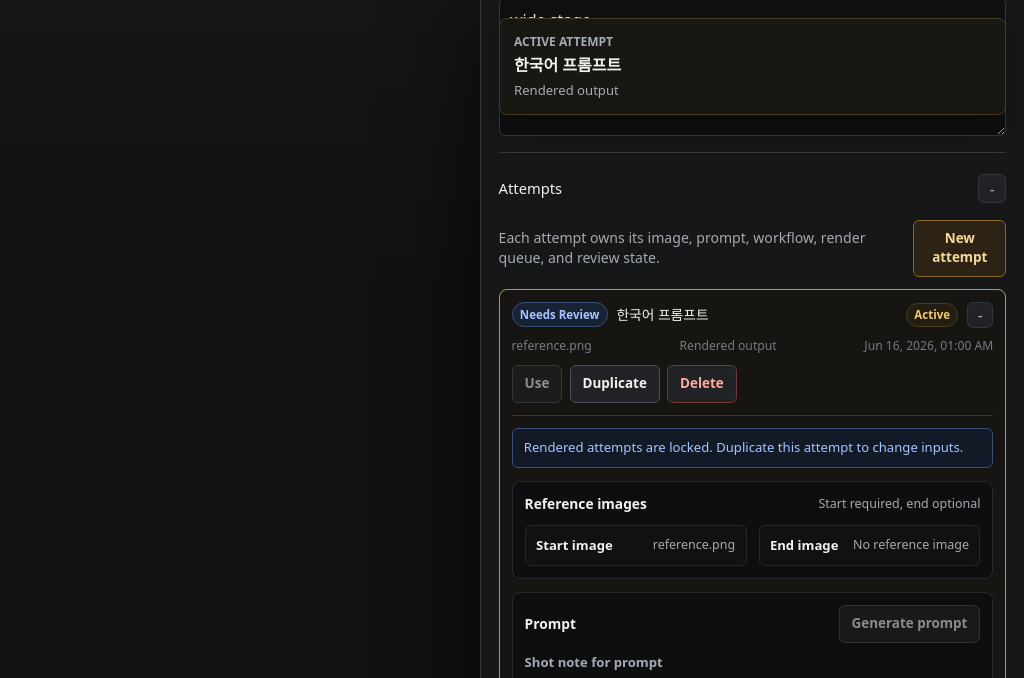
Test: ShotDrawer asset attempts › rendered attempt inputs are locked and duplicate creates an editable attempt
(page scrolled)
Click the button with aria-label "Duplicate attempt attempt-rendered".
click(615, 384)  # box [570, 365, 660, 403]
(page scrolled)
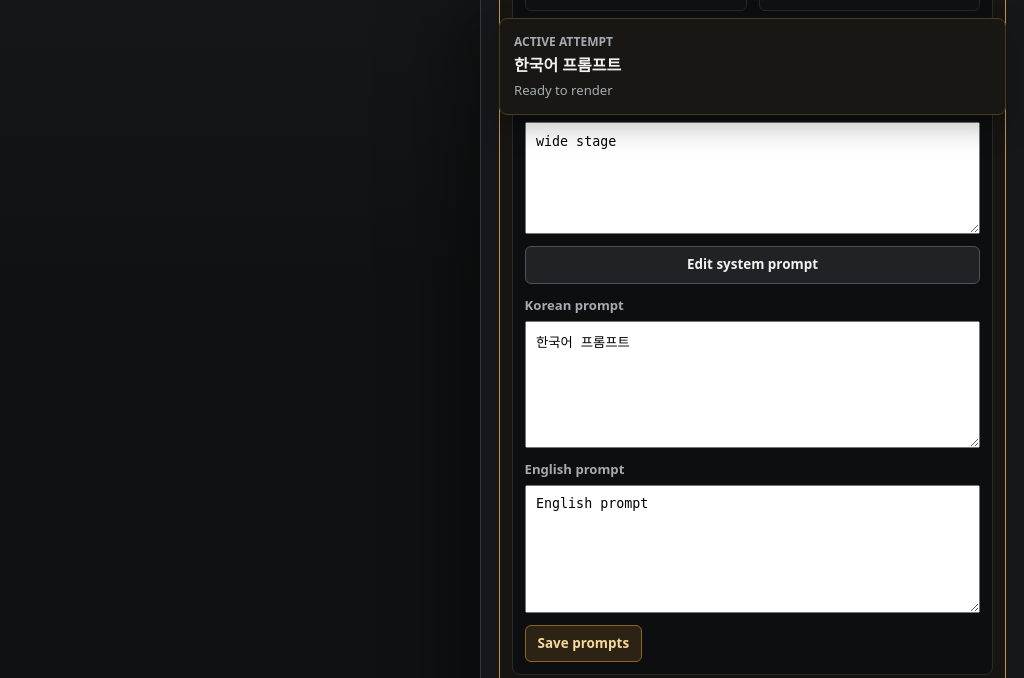
Expected: the text box named "Korean prompt for attempt attempt-copy" is enabled, [525, 320, 980, 448]
